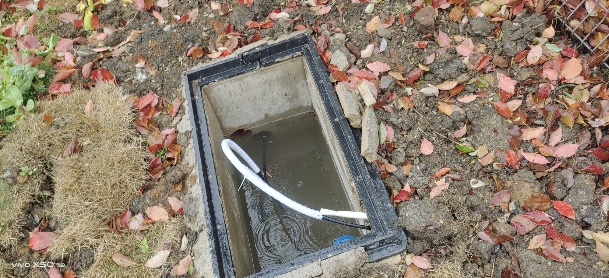lose: (184, 33, 411, 277)
